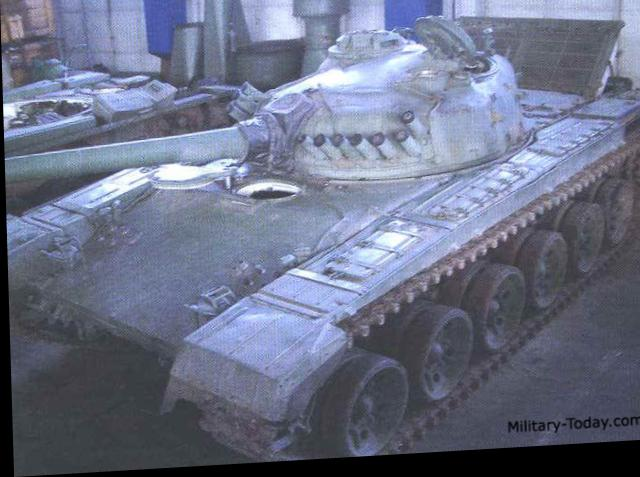tank: (12, 31, 640, 460)
